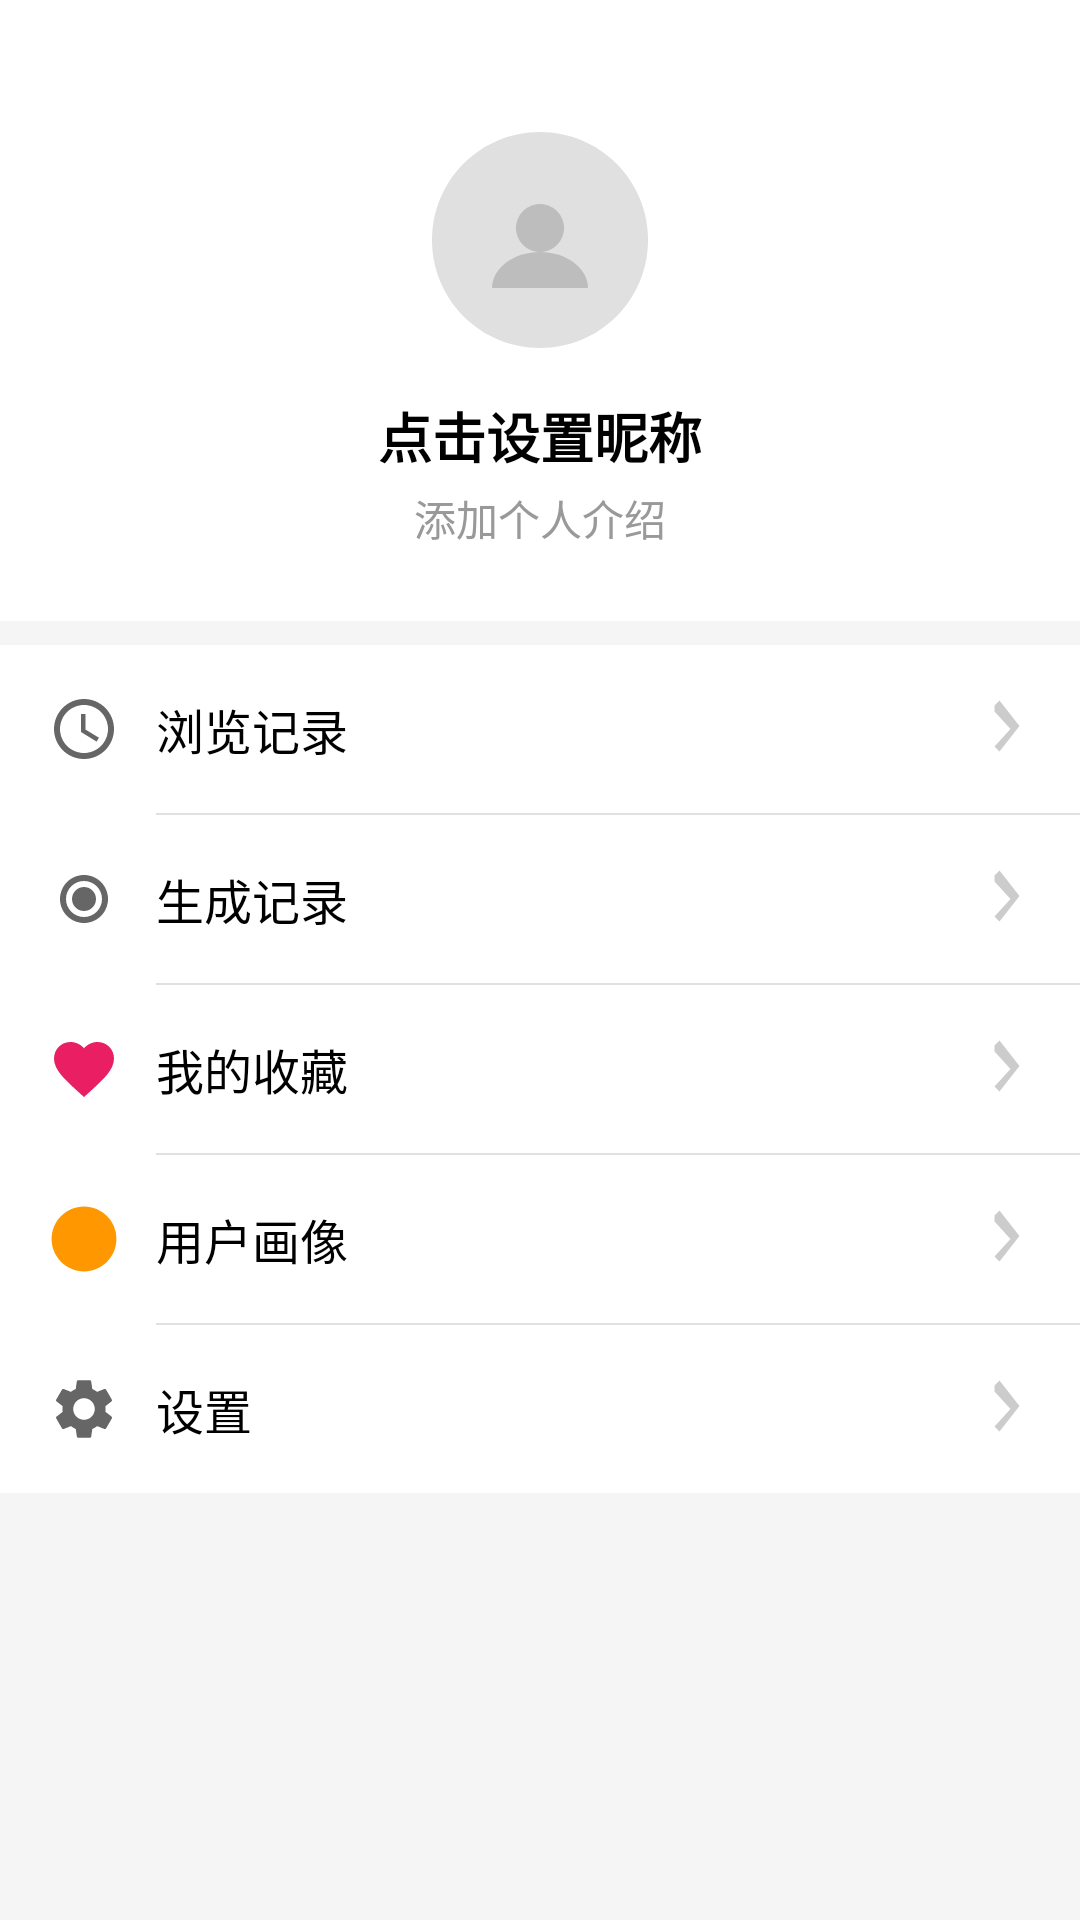

Named icons in this screenshot (1080*1920) and their bounding boxes, detection(x1, y1, x2, y2):
chevron right: detection(994, 701, 1019, 751), detection(994, 871, 1019, 921), detection(994, 1041, 1019, 1091), detection(994, 1211, 1019, 1261), detection(994, 1381, 1019, 1431)
favorite: detection(54, 1042, 114, 1097)
history: detection(54, 699, 114, 759)
settings: detection(56, 1380, 112, 1438)
